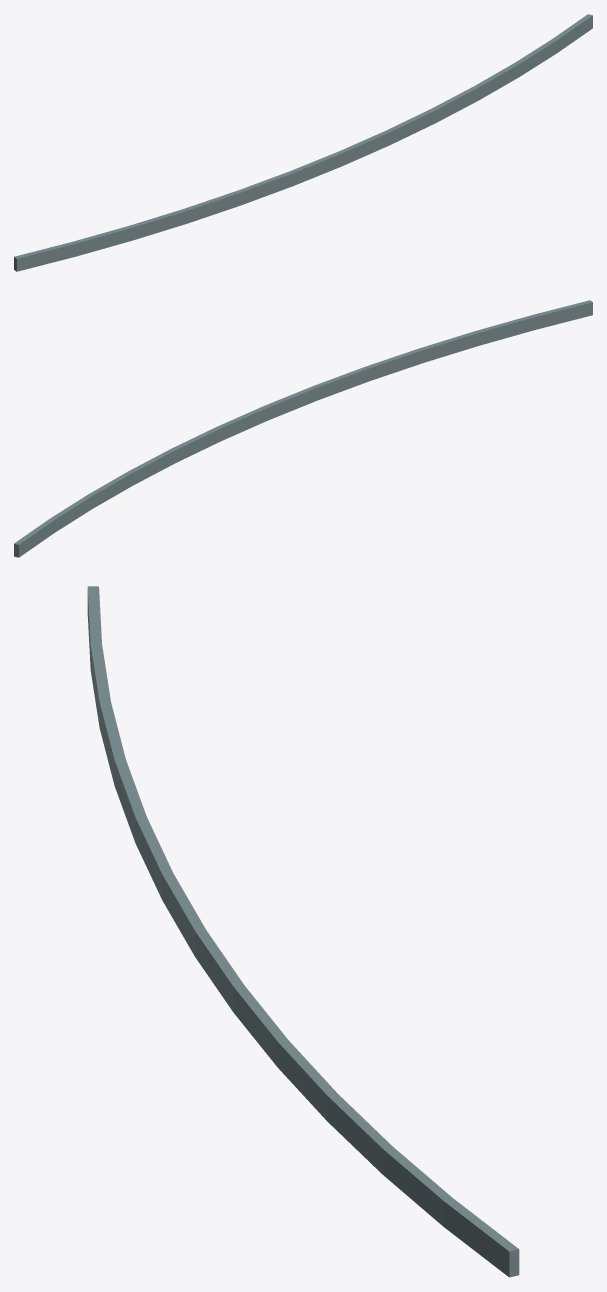
File: RoadPlan_WalkCurve_2L_A30_R36_Curb_1.glb
3 renders of one model, top to bottom at view 1: azimuth 30°, elevation 25°; view 2: azimuth 210°, elevation 25°; view 3: azimuth 270°, elevation 25°, orthographic. The views are drawn at different scales.
Parts seen in each view (by area): view 1: RoadPlan_WalkCurve_2L_A30_R36_Curb_1; view 2: RoadPlan_WalkCurve_2L_A30_R36_Curb_1; view 3: RoadPlan_WalkCurve_2L_A30_R36_Curb_1.
Boxes of the visible parts, <box> form: RoadPlan_WalkCurve_2L_A30_R36_Curb_1: <box>14,14,592,271</box>; RoadPlan_WalkCurve_2L_A30_R36_Curb_1: <box>14,300,592,557</box>; RoadPlan_WalkCurve_2L_A30_R36_Curb_1: <box>87,586,519,1277</box>.
Size of the model in its own units: 16.5 by 0.3 by 4.53.
